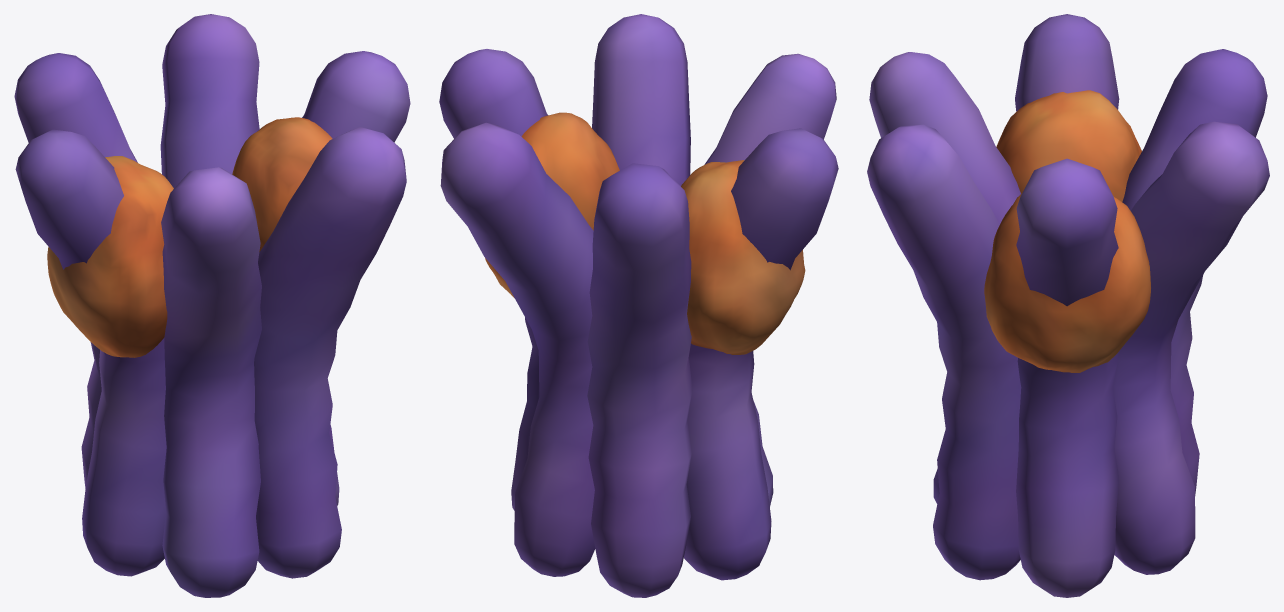
The model's file is carrier-protein.glb.
3 renders of one model, left to right at view 1: azimuth 30°, elevation 25°; view 2: azimuth 150°, elevation 25°; view 3: azimuth 270°, elevation 25°, orthographic.
Visible parts, largest first — view 1: carrier-protein-helices, carrier-protein-domains; view 2: carrier-protein-helices, carrier-protein-domains; view 3: carrier-protein-helices, carrier-protein-domains.
Part boxes in pixels (x1=…): carrier-protein-helices: x1=14, y1=14, x2=410, y2=597; carrier-protein-domains: x1=47, y1=117, x2=332, y2=357; carrier-protein-helices: x1=439, y1=14, x2=838, y2=597; carrier-protein-domains: x1=485, y1=112, x2=805, y2=354; carrier-protein-helices: x1=867, y1=14, x2=1269, y2=597; carrier-protein-domains: x1=984, y1=90, x2=1150, y2=372.
Size of what is drawn, in the model's own units: 1.3 by 1.49 by 1.17.
